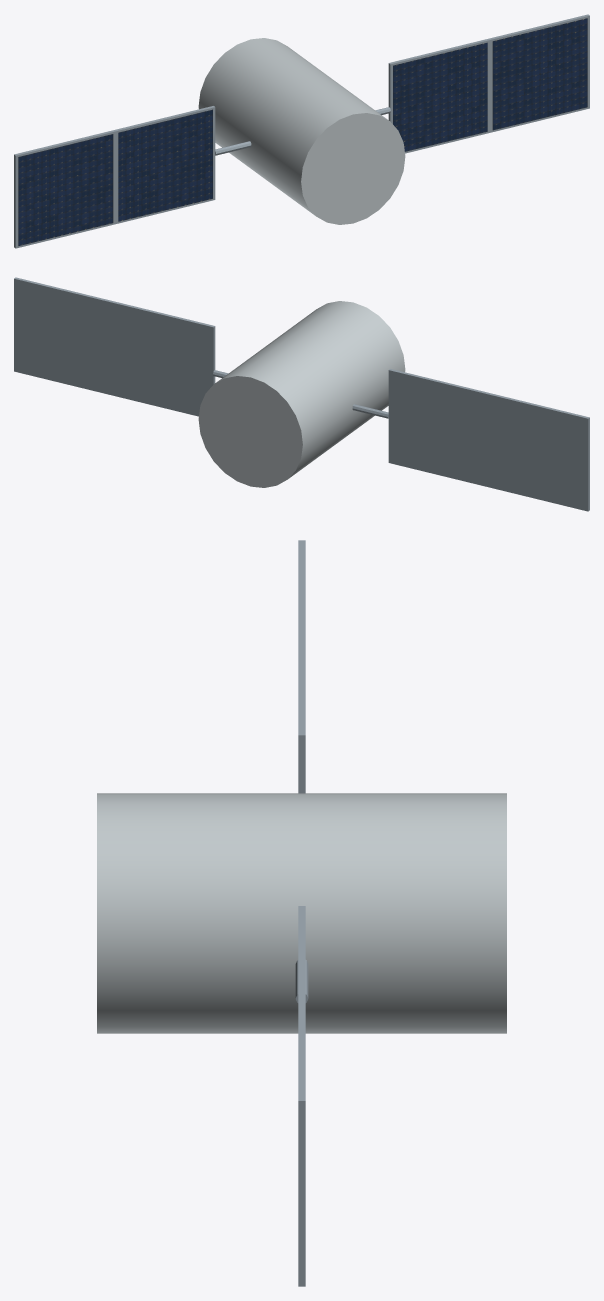
The model's file is ref-sn-200-29653.glb.
3 renders of one model, top to bottom at view 1: azimuth 30°, elevation 25°; view 2: azimuth 150°, elevation 25°; view 3: azimuth 270°, elevation 25°, orthographic. The views are drawn at different scales.
Visible parts, largest first — view 1: Photovoltaic laminates (×4), Spacecraft body, Array frame (×4); view 2: Array frame (×4), Spacecraft body; view 3: Spacecraft body, Array frame (×2).
Part boxes in pixels (x1=…): Photovoltaic laminates (×4): x1=18, y1=18, x2=587, y2=245; Spacecraft body: x1=198, y1=38, x2=405, y2=224; Array frame (×4): x1=14, y1=14, x2=589, y2=248; Array frame (×4): x1=14, y1=277, x2=589, y2=511; Spacecraft body: x1=198, y1=301, x2=405, y2=487; Spacecraft body: x1=97, y1=793, x2=506, y2=1033; Array frame (×2): x1=298, y1=638, x2=305, y2=1286.
Bounding box in the file's own units: 5.5 × 1 × 1.7.
Materials: 3 (1 with a texture image).
